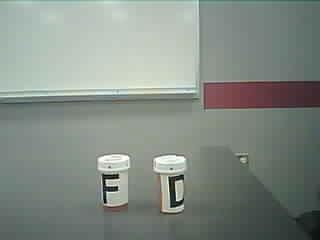Bottle D: (153, 149, 190, 218)
Bottle F: (94, 148, 134, 213)
